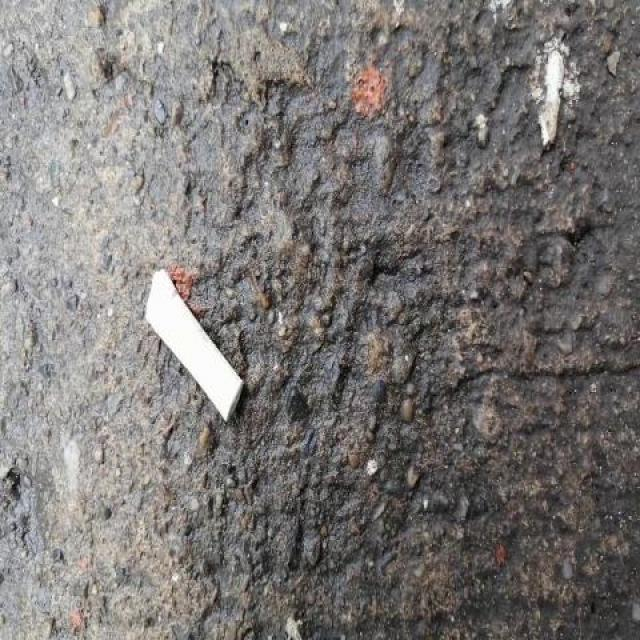non-organic waste: (141, 266, 247, 426)
